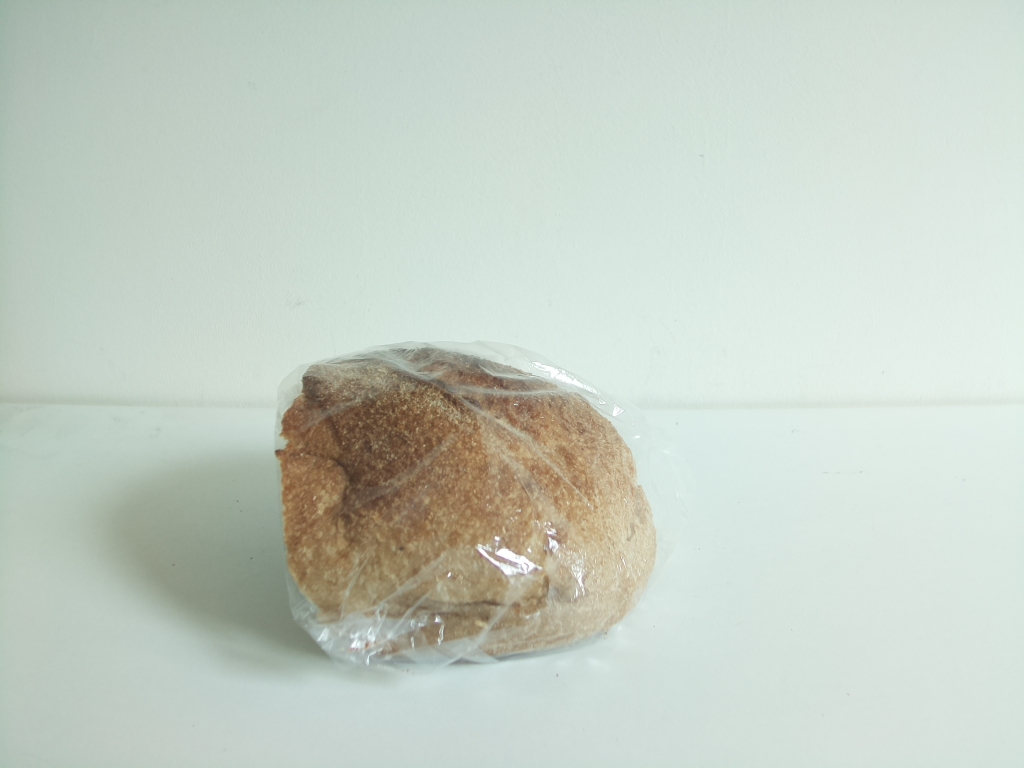bread: (277, 340, 654, 680)
